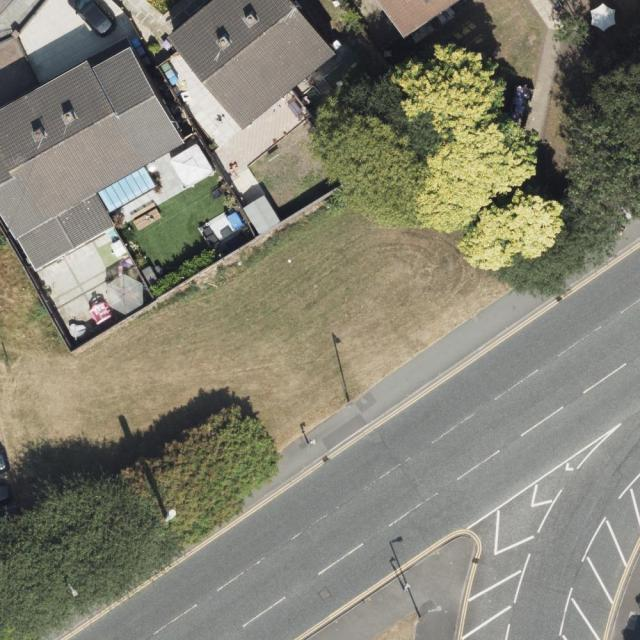roof: (0, 38, 187, 270), (167, 0, 338, 132), (376, 0, 462, 40)
skylight: (97, 165, 159, 215)
